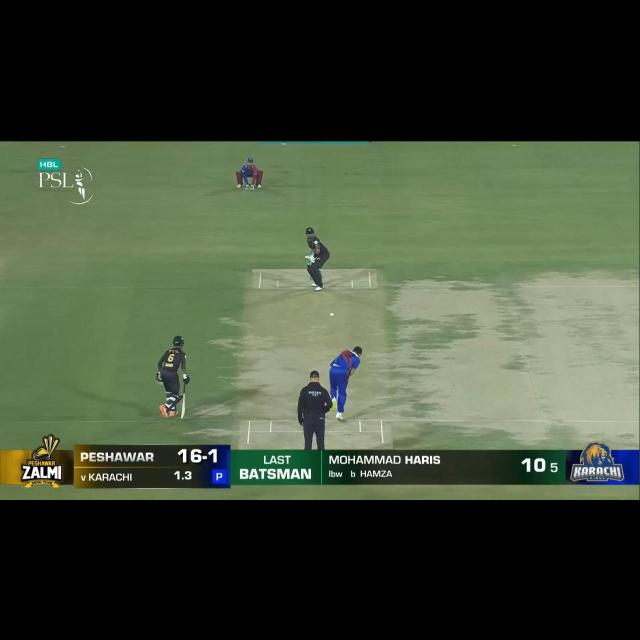bat: (179, 392, 187, 420), (304, 254, 312, 260)
toe: (178, 414, 186, 422)
